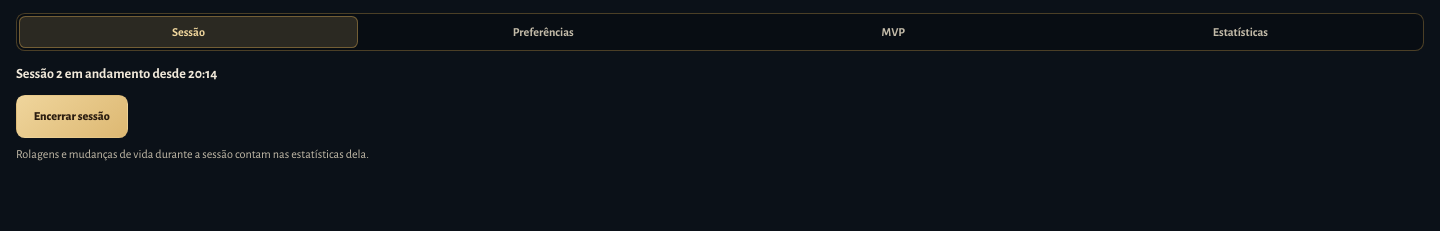
Test: aba Mestre › com menos de dois jogadores não abre a votação e explica
Step 1. Click the tab "MVP" → (893, 32), box top-left (729, 16), bottom-right (1058, 48)
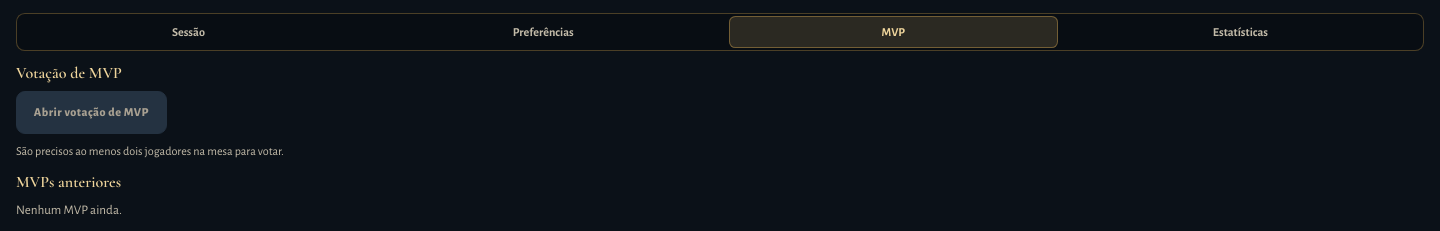
Now the button "Abrir votação de MVP" is disabled, box top-left (16, 91), bottom-right (167, 134)
Now the text "São precisos ao menos dois jogadores na mesa para votar." is shown, box top-left (16, 143), bottom-right (284, 161)
